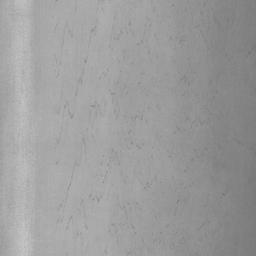Silk spot: (35, 62, 41, 83), (89, 194, 102, 203), (180, 75, 190, 86)
